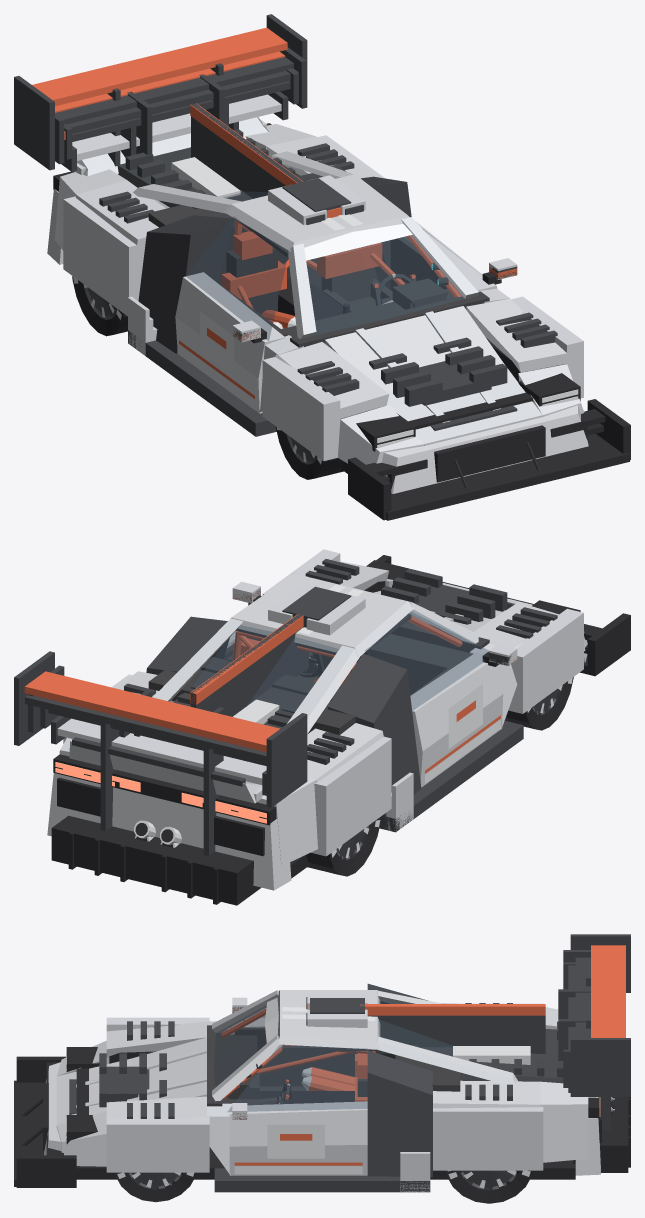
File: SupercarV10_01.fbx
3 views of the same model, one above another, from view 1: azimuth 30°, elevation 25°; view 2: azimuth 150°, elevation 25°; view 3: azimuth 270°, elevation 25° (orthographic). The views are drawn at different scales.
Parts seen in each view (by area): view 1: mod_fender_2_widebody, mod_spoiler_5_timeattack, roof_cabin, fender_rear_right, glass_windshield, mod_hood_0_stock, mod_bumper_front_0_stock, mod_bumper_front_4_timeattack, glass_side_right, mod_spoiler_4_swanneck, door_right, fender_front_right (+30 smaller); view 2: mod_spoiler_5_timeattack, mod_fender_2_widebody, fender_rear_right, roof_cabin, mod_bumper_rear_3_timeattack, mod_bumper_rear_0_stock, door_right, glass_side_right, mod_roof_scoop_3_sharkfin, glass_rear, interior_cabin, mod_spoiler_1_ducktail (+26 smaller); view 3: mod_fender_2_widebody, fender_rear_left, mod_spoiler_5_timeattack, roof_cabin, mod_roof_scoop_3_sharkfin, glass_side_left, door_left, mod_skirts_3_wide_left, mod_hood_0_stock, fender_front_left, mod_bumper_front_4_timeattack, interior_cabin (+32 smaller).
Boxes of the visible parts, x1=… form: mod_fender_2_widebody: x1=63, y1=135, x2=583, y2=460; mod_spoiler_5_timeattack: x1=14, y1=14, x2=307, y2=170; roof_cabin: x1=133, y1=151, x2=478, y2=339; fender_rear_right: x1=54, y1=169, x2=234, y2=353; glass_windshield: x1=306, y1=235, x2=464, y2=335; mod_hood_0_stock: x1=325, y1=306, x2=542, y2=445; mod_bumper_front_0_stock: x1=370, y1=405, x2=599, y2=495; mod_bumper_front_4_timeattack: x1=348, y1=399, x2=630, y2=520; glass_side_right: x1=186, y1=216, x2=288, y2=340; mod_spoiler_4_swanneck: x1=55, y1=47, x2=306, y2=164; door_right: x1=175, y1=272, x2=287, y2=413; fender_front_right: x1=259, y1=335, x2=424, y2=464; mod_spoiler_5_timeattack: x1=14, y1=651, x2=307, y2=856; mod_fender_2_widebody: x1=63, y1=549, x2=583, y2=856; fender_rear_right: x1=257, y1=653, x2=421, y2=866; roof_cabin: x1=153, y1=573, x2=478, y2=733; mod_bumper_rear_3_timeattack: x1=51, y1=816, x2=259, y2=905; mod_bumper_rear_0_stock: x1=47, y1=773, x2=291, y2=894; door_right: x1=410, y1=652, x2=503, y2=787; glass_side_right: x1=365, y1=609, x2=488, y2=710; mod_roof_scoop_3_sharkfin: x1=190, y1=614, x2=308, y2=716; glass_rear: x1=191, y1=625, x2=338, y2=713; interior_cabin: x1=148, y1=621, x2=489, y2=735; mod_spoiler_1_ducktail: x1=69, y1=737, x2=261, y2=803; mod_fender_2_widebody: x1=106, y1=1003, x2=543, y2=1172; fender_rear_left: x1=367, y1=1050, x2=588, y2=1177; mod_spoiler_5_timeattack: x1=570, y1=934, x2=630, y2=1129; roof_cabin: x1=212, y1=990, x2=517, y2=1101; mod_roof_scoop_3_sharkfin: x1=355, y1=1004, x2=545, y2=1053; glass_side_left: x1=228, y1=1045, x2=367, y2=1111; door_left: x1=229, y1=1101, x2=367, y2=1175; mod_skirts_3_wide_left: x1=214, y1=1152, x2=430, y2=1192; mod_hood_0_stock: x1=56, y1=1037, x2=206, y2=1124; fender_front_left: x1=56, y1=1096, x2=232, y2=1175; mod_bumper_front_4_timeattack: x1=14, y1=1056, x2=76, y2=1187; interior_cabin: x1=207, y1=1025, x2=460, y2=1164.
Size of the model in its own units: 2.14 by 1.44 by 4.92.
